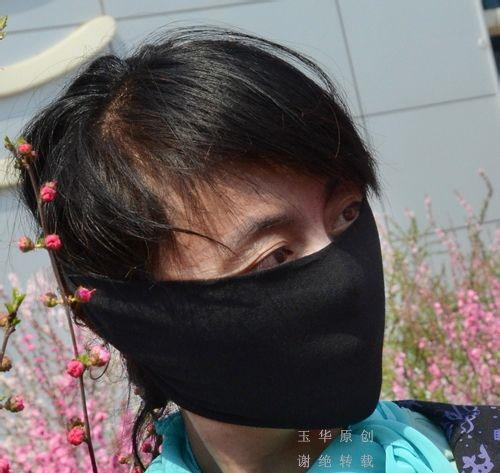OK: (143, 169, 397, 423)
